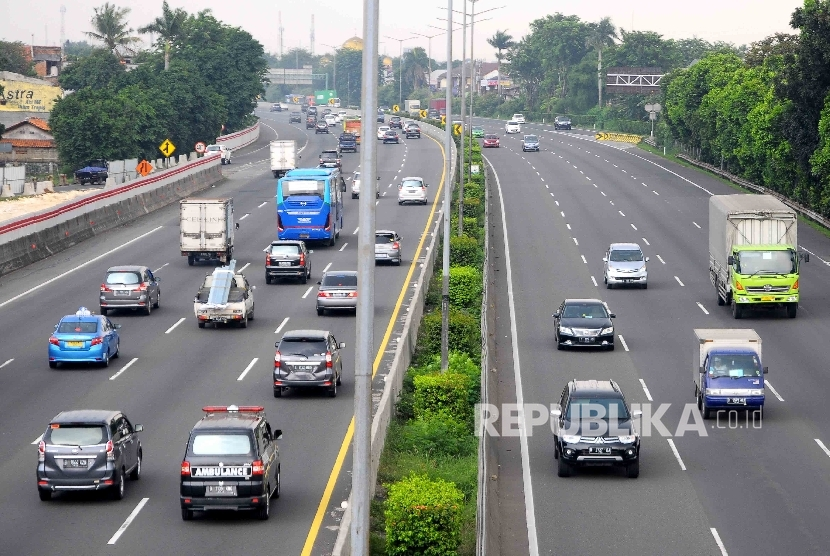car: (707, 195, 798, 318), (180, 406, 276, 520), (40, 410, 142, 502), (553, 377, 638, 481), (691, 325, 767, 418), (278, 166, 345, 250), (274, 333, 342, 400), (51, 308, 119, 366), (182, 198, 235, 264), (196, 271, 254, 330), (558, 299, 615, 347), (100, 266, 159, 312), (604, 242, 646, 294), (320, 271, 360, 316), (265, 241, 308, 282), (372, 231, 400, 268), (398, 177, 427, 208), (271, 141, 296, 173), (202, 145, 232, 169), (344, 117, 362, 147), (320, 150, 339, 171), (338, 133, 357, 153), (523, 135, 541, 153), (406, 122, 420, 140), (554, 116, 571, 130), (383, 130, 399, 144), (484, 134, 499, 148), (505, 121, 520, 134), (289, 111, 302, 125), (316, 120, 328, 134), (390, 116, 402, 129), (512, 113, 525, 124), (325, 114, 335, 128), (472, 127, 484, 137)
